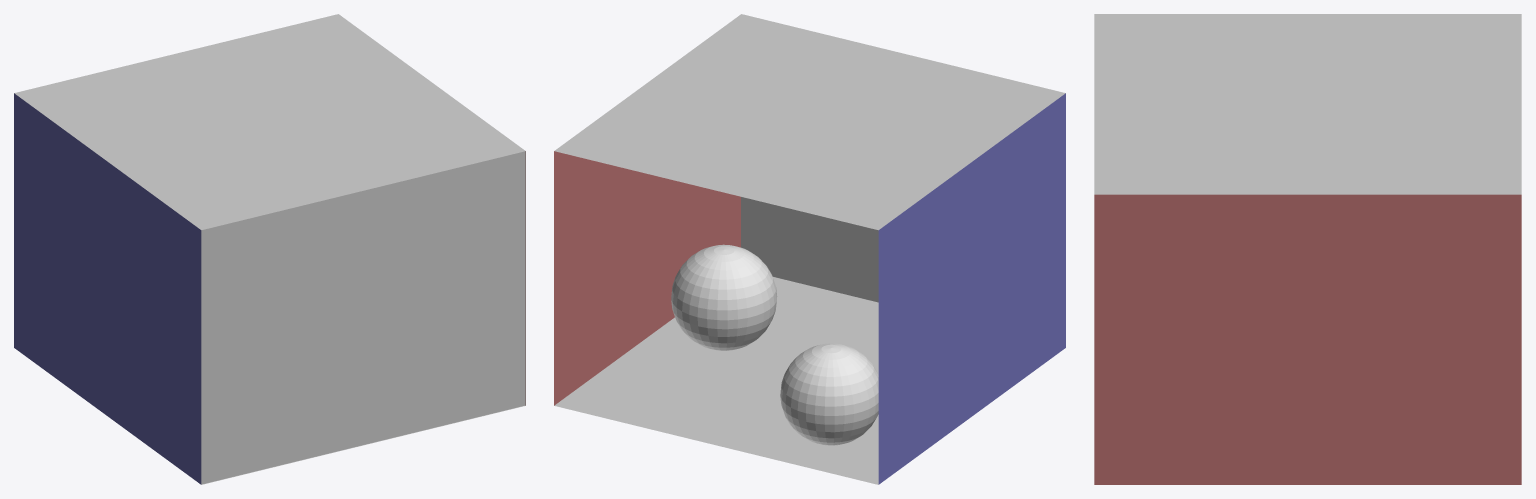
The model's file is spotwspheres6.dae.
3 renders of one model, left to right at view 1: azimuth 30°, elevation 25°; view 2: azimuth 150°, elevation 25°; view 3: azimuth 270°, elevation 25°, orthographic. The views are drawn at different scales.
Parts seen in each view (by area): view 1: backWall, ceiling, rightWall; view 2: ceiling, rightWall, floor, leftWall, backWall, Sphere, Sphere_001; view 3: leftWall, ceiling.
Boxes of the visible parts, box(x1,y1,x2,y2) form: backWall: box(201, 151, 525, 484); ceiling: box(14, 14, 525, 230); rightWall: box(14, 93, 201, 484); ceiling: box(554, 14, 1065, 230); rightWall: box(878, 93, 1065, 484); floor: box(554, 277, 878, 484); leftWall: box(554, 151, 740, 405); backWall: box(741, 197, 878, 302); Sphere: box(671, 244, 777, 350); Sphere_001: box(780, 343, 878, 445); leftWall: box(1094, 194, 1521, 484); ceiling: box(1094, 14, 1521, 194).
Size of the model in its own units: 2 by 2 by 1.5.
